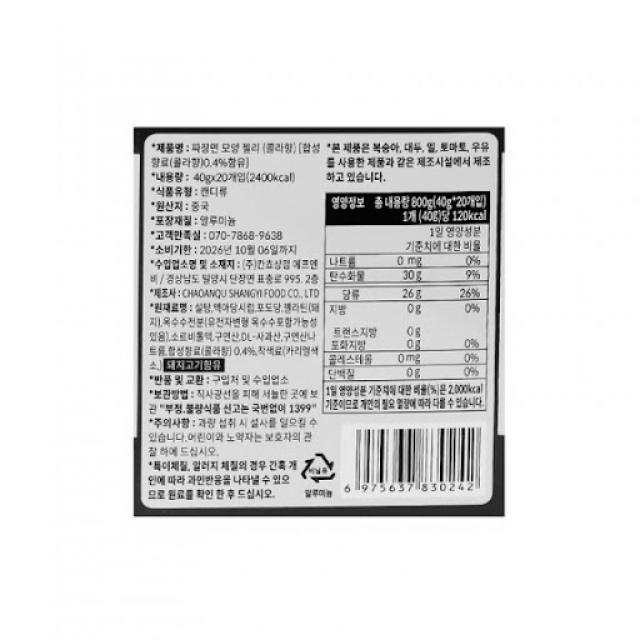Nutrition Label: (312, 188, 514, 422)
